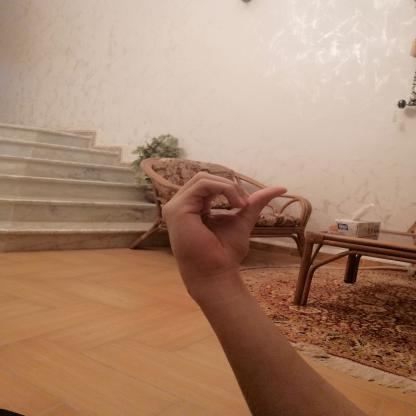WAW: (152, 166, 298, 284)
